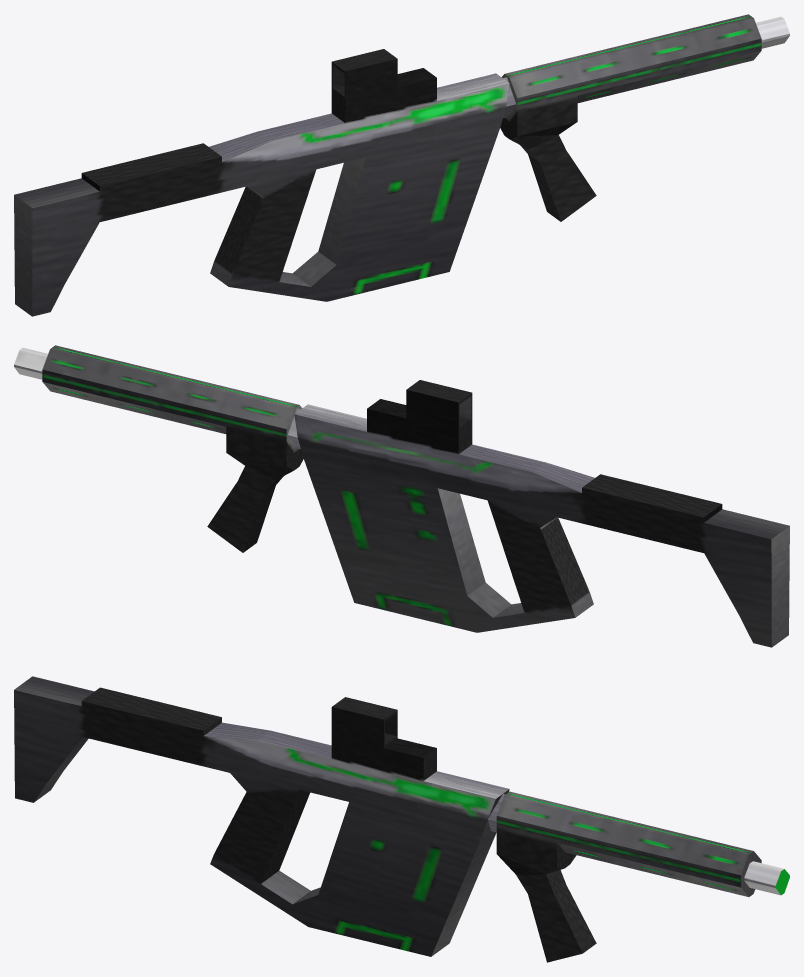
Rendered from SM_RifleLM.fbx.
3 renders of one model, top to bottom at view 1: azimuth 30°, elevation 25°; view 2: azimuth 150°, elevation 25°; view 3: azimuth 330°, elevation 25°, orthographic.
Visible parts, largest first — view 1: Cube; view 2: Cube; view 3: Cube.
Boxes of the visible parts, bbox=[...] form: Cube: bbox=[14, 14, 789, 316]; Cube: bbox=[14, 345, 789, 647]; Cube: bbox=[14, 676, 789, 962].
Size of the model in its own units: 107 by 30.08 by 5.05.
